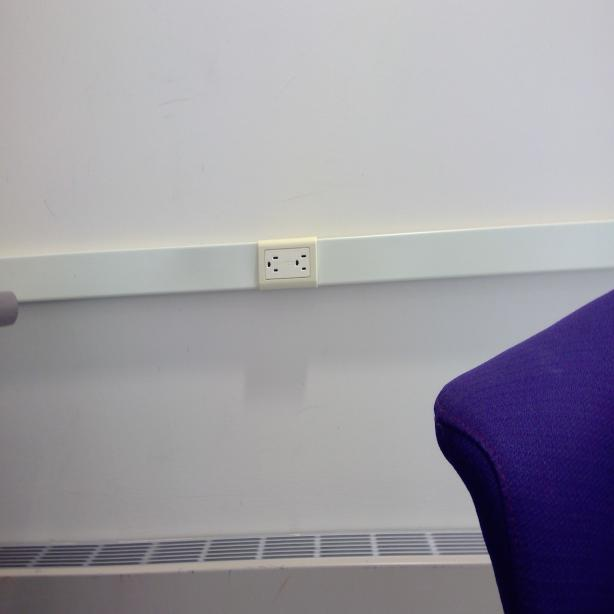typeb: (265, 246, 281, 281), (292, 250, 310, 274)
